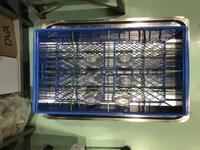Glass: (110, 91, 131, 107), (83, 91, 105, 106), (114, 54, 136, 67), (80, 73, 103, 85), (114, 75, 136, 87), (85, 54, 104, 67)
